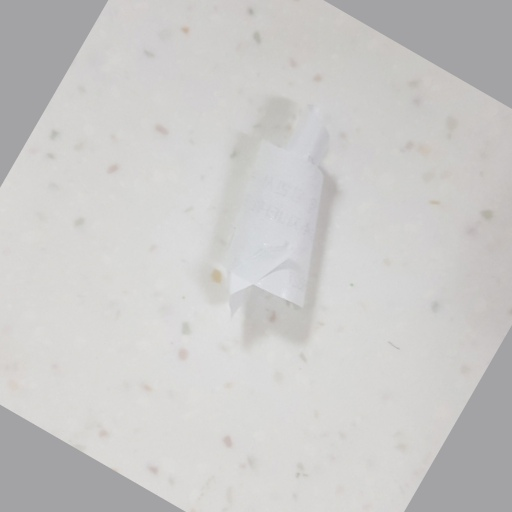Paper_3: (211, 94, 359, 325)
